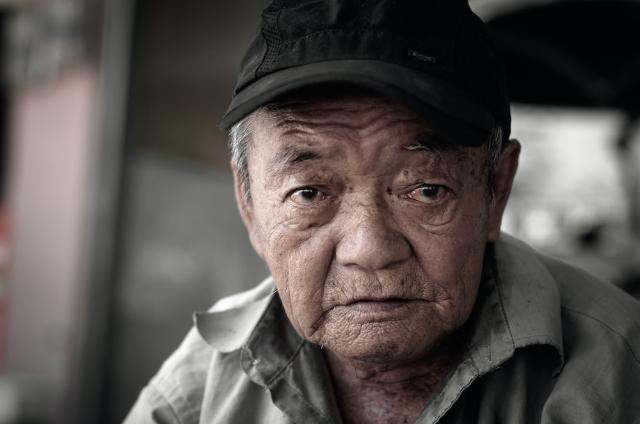chin: (355, 316, 397, 340)
forehead: (352, 109, 398, 141), (312, 105, 342, 135), (274, 109, 306, 135)
gummy_smile: (316, 250, 338, 294), (401, 234, 427, 270)
masseter: (439, 280, 457, 316)
sad_smile: (308, 307, 332, 339)
smoker_lines: (370, 276, 390, 294)
